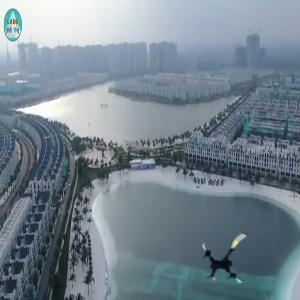drone: (198, 228, 261, 291)
